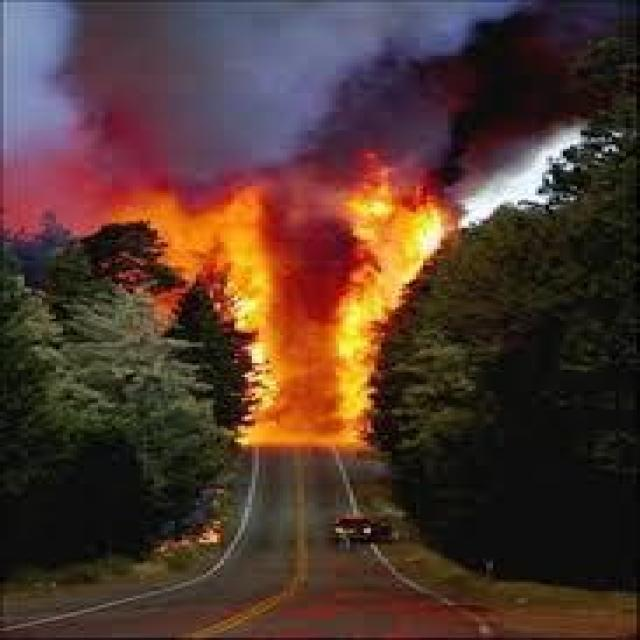fire: (60, 156, 465, 444)
smoke: (53, 1, 633, 156)
